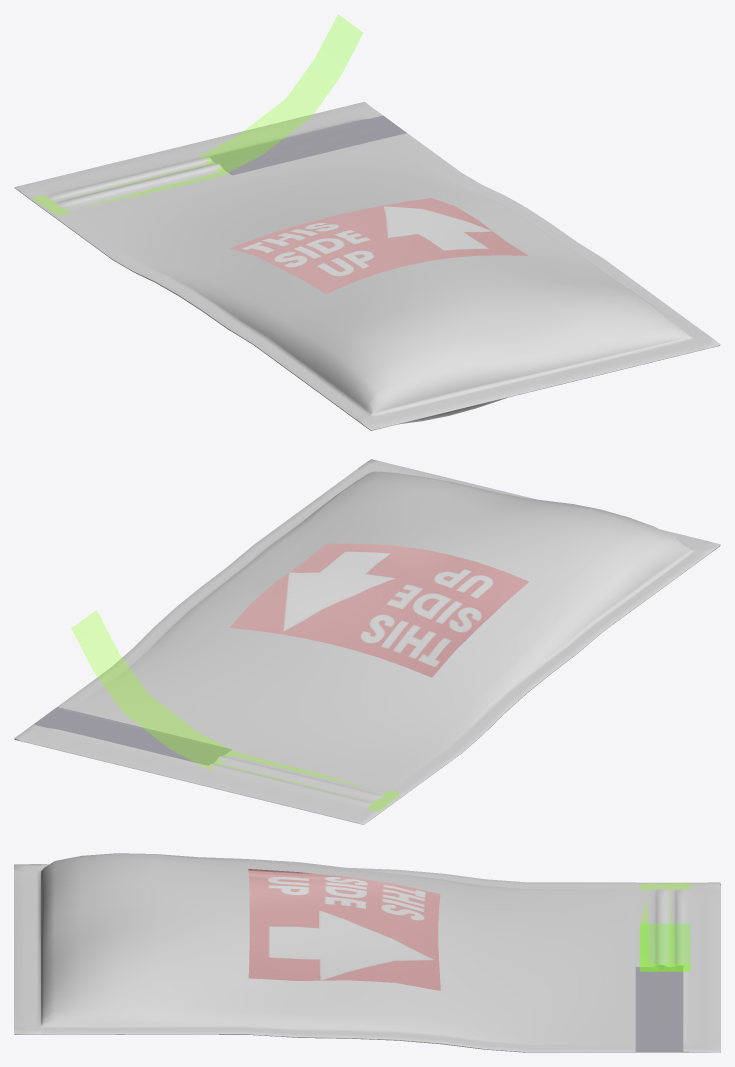
File: OpeningBag.fbx
The picture shows the model from 3 angles, top to bottom: view 1: azimuth 30°, elevation 25°; view 2: azimuth 150°, elevation 25°; view 3: azimuth 270°, elevation 25°; orthographic projection.
Parts seen in each view (by area): view 1: bagZipped, zipped1; view 2: bagZipped, zipped1; view 3: bagZipped, zipped1.
Boxes of the visible parts, left/top/right/bottom form: bagZipped: left=14, top=101, right=720, bottom=430; zipped1: left=31, top=14, right=362, bottom=215; bagZipped: left=14, top=459, right=720, bottom=824; zipped1: left=71, top=610, right=399, bottom=811; bagZipped: left=14, top=853, right=720, bottom=1052; zipped1: left=639, top=883, right=690, bottom=971.
Bounding box in the file's own units: 2.48 × 0.9188 × 4.38.
